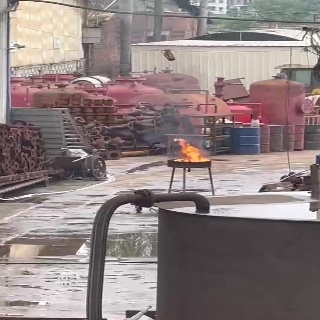fire: (173, 138, 210, 162)
